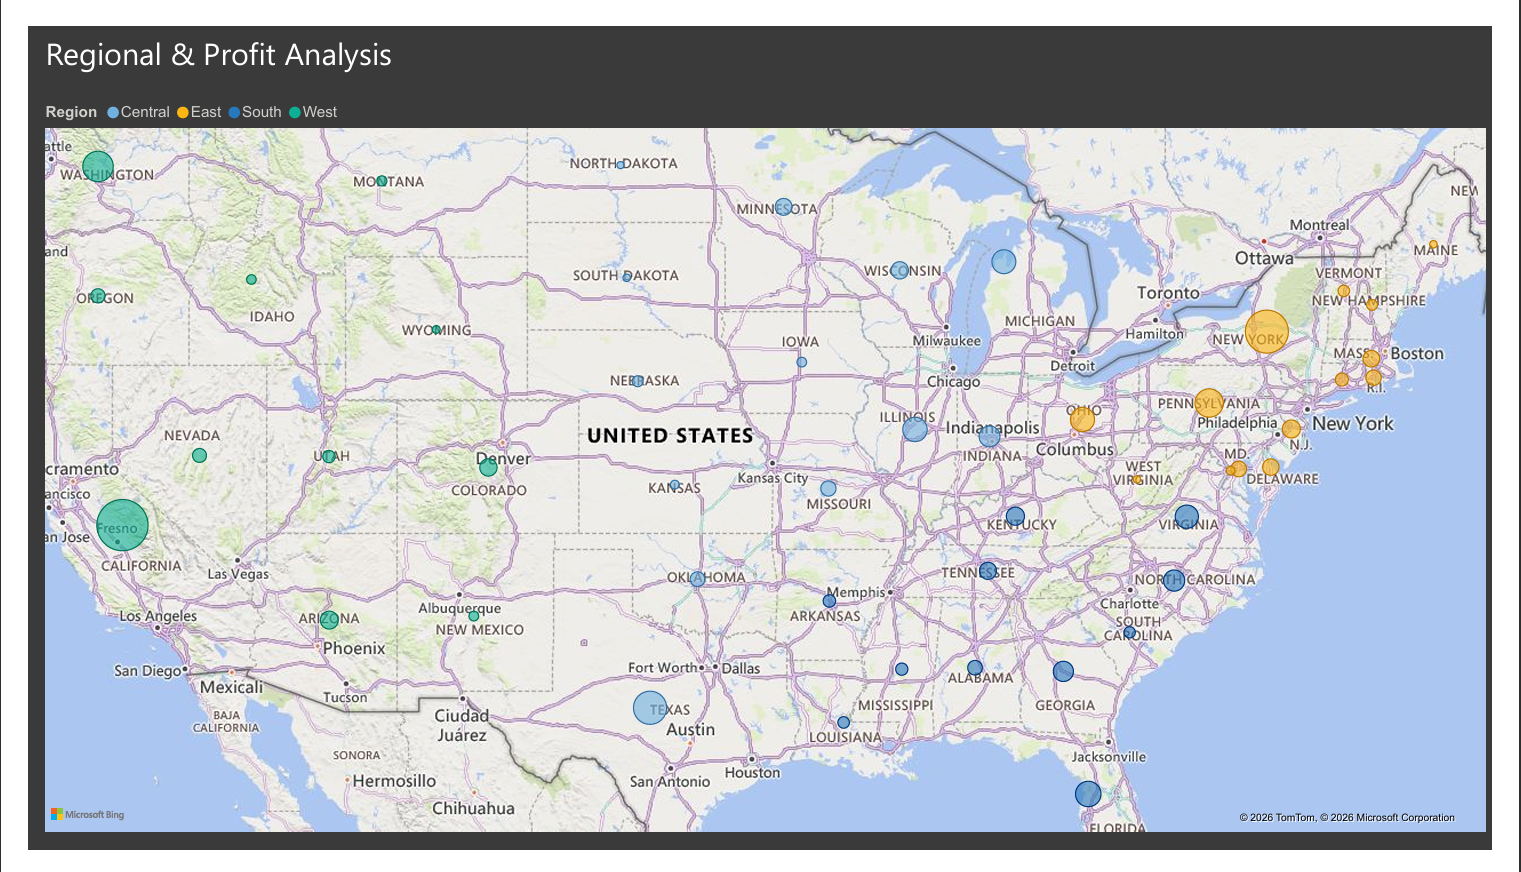

The dashboard page shown, as its layout file describes it:
{"tool":"powerbi","page":{"name":"Regional Analysis","canvas":[1280,720],"ordinal":2},"visuals":[{"type":"textbox","box":[9.6,0,356.8,54.9],"z":0},{"type":"map","fields":{"Category":["SampleSuperstore.State"],"Size":["SampleSuperstore.Total Sales"],"Series":["SampleSuperstore.Region"]},"box":[9.6,54.9,1270.7,654.5],"z":1000}]}

Visuals, with their boxes in screenshot pixels (x1, y1, x2, y2), scaled from the page's 1280x720 canvas onto the 1521x872 screenshot:
textbox: locate(11, 0, 435, 66)
map - SampleSuperstore.State x SampleSuperstore.Total Sales: locate(11, 66, 1520, 859)
